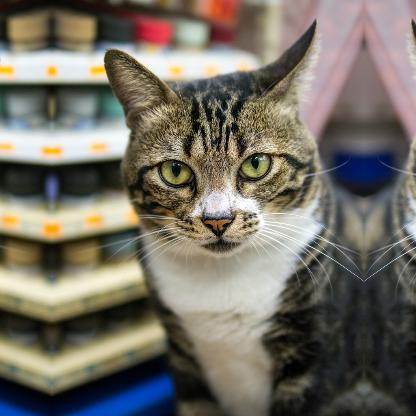Cat: (84, 21, 362, 415)
